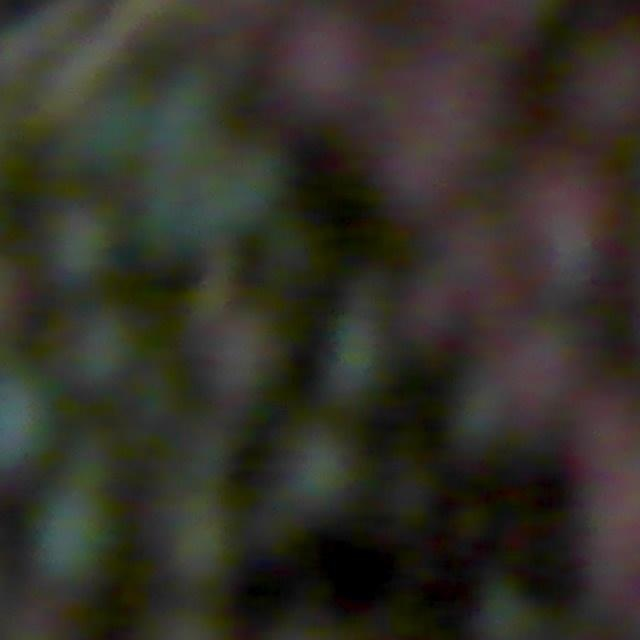SeaGrape: (270, 4, 389, 147), (389, 75, 508, 199), (522, 142, 617, 256), (556, 33, 640, 152), (570, 480, 640, 604), (493, 319, 588, 409), (29, 484, 117, 581), (203, 307, 290, 397), (276, 426, 363, 515), (316, 298, 384, 402), (65, 308, 141, 390), (0, 368, 58, 470), (42, 210, 116, 283), (469, 581, 546, 640)
